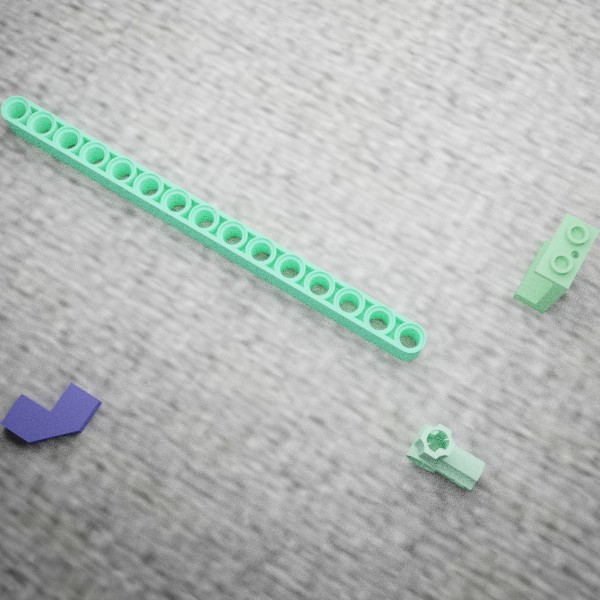lego: (0, 95, 426, 360), (512, 212, 600, 313), (0, 382, 102, 443), (405, 423, 485, 490)
